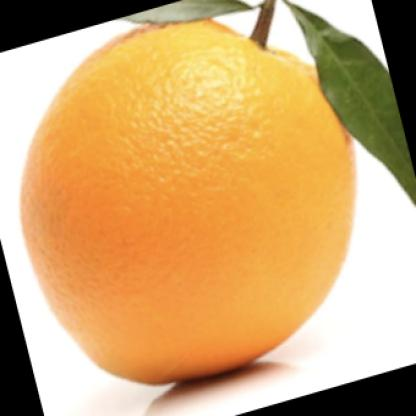fresh: (23, 18, 357, 383)
